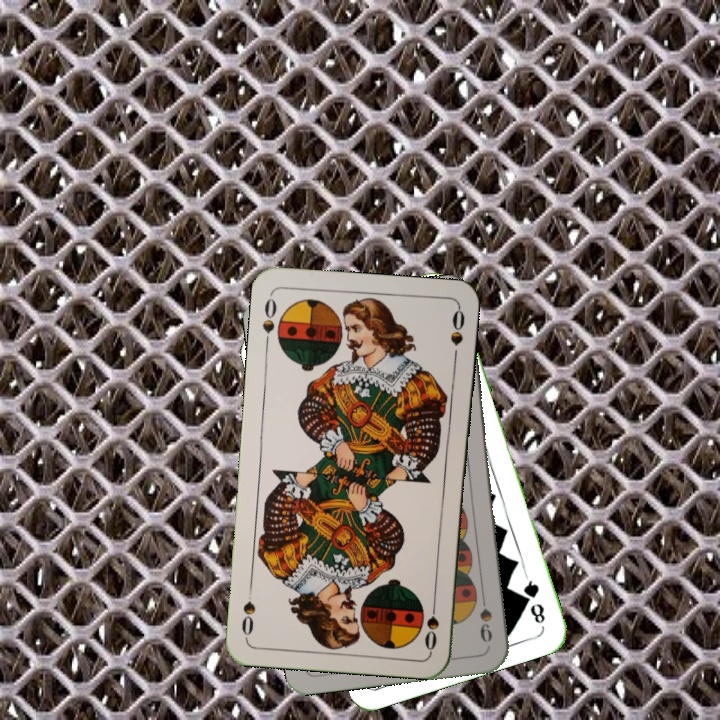G8: (519, 571, 548, 627)
S9: (475, 588, 495, 645)
SO: (420, 594, 442, 653), (258, 291, 279, 350)
